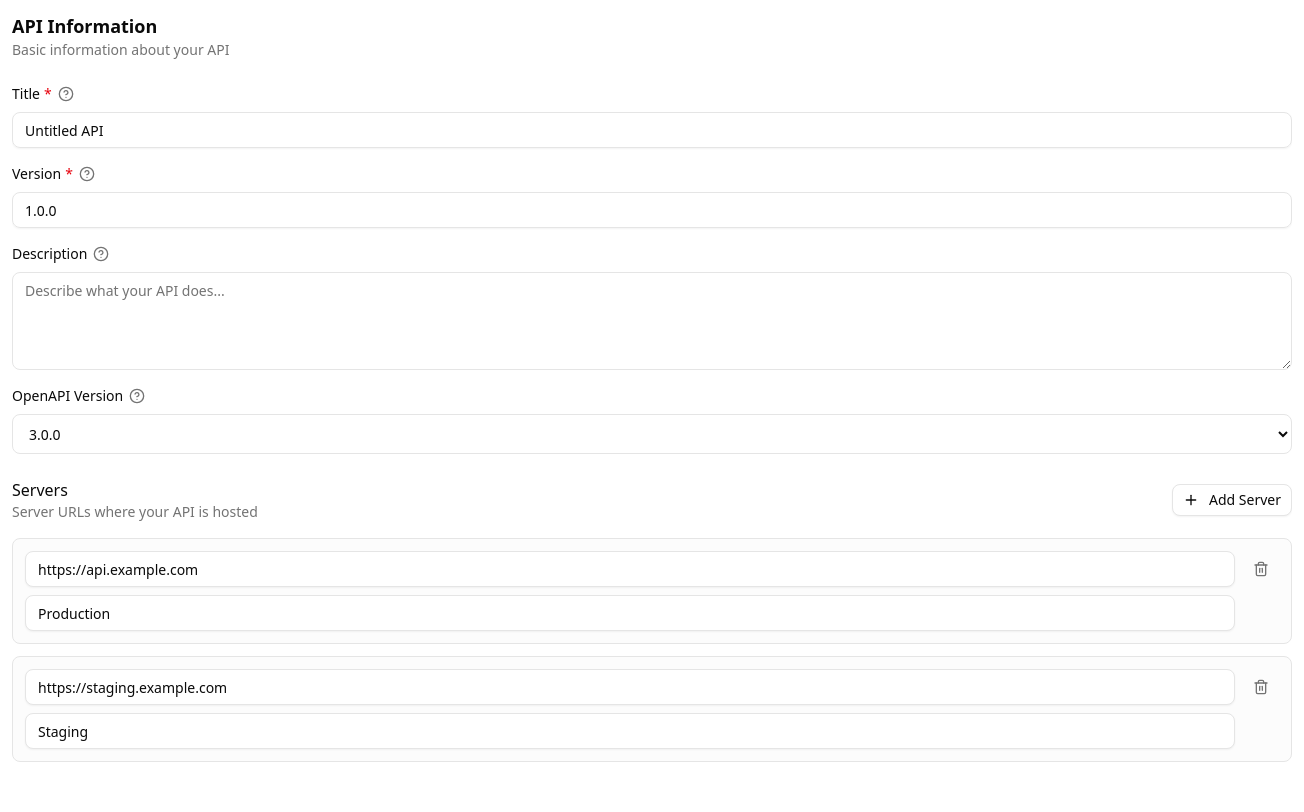
Test case: ApiInfoTab › Servers Section › should remove server when remove button clicked
The width and height of the screenshot is (1304, 812).
Click the 1st button named "remove server" at (1261, 569), box [1243, 551, 1279, 587]
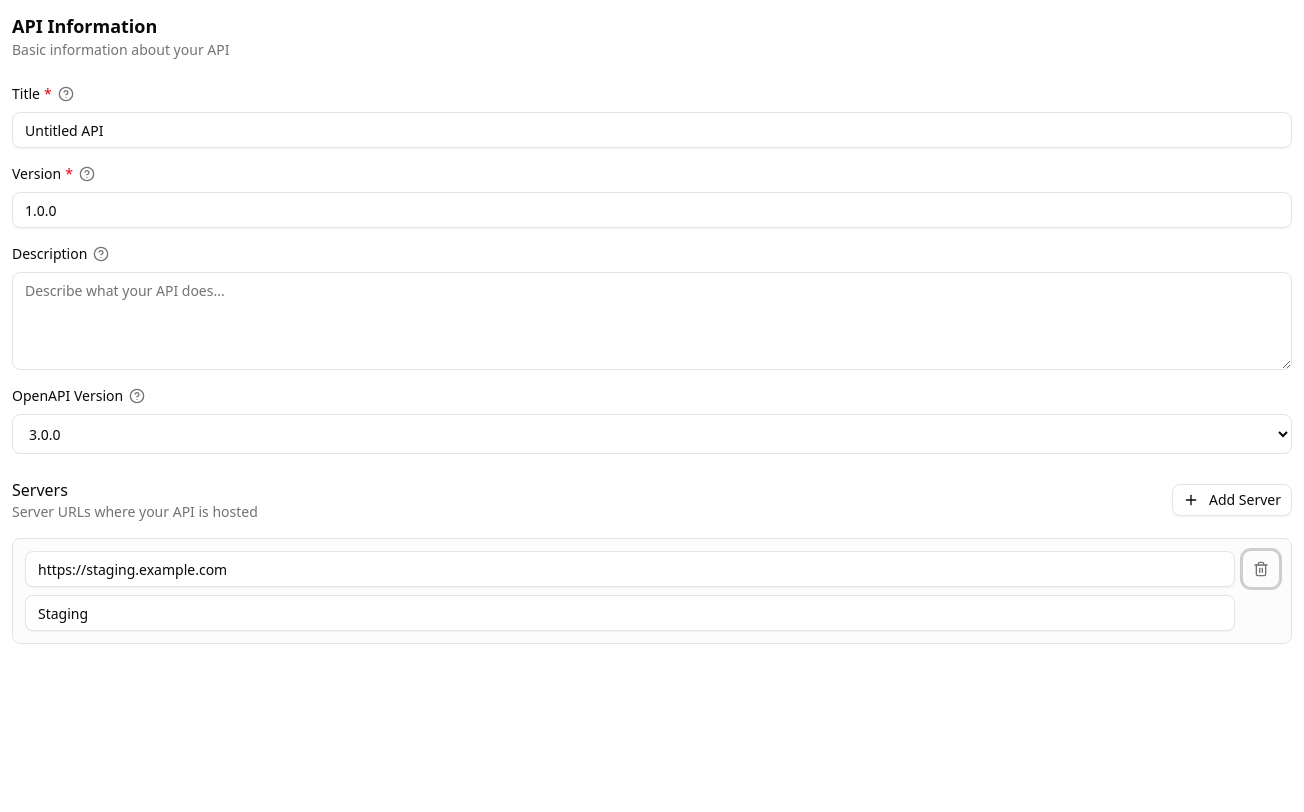
Expected: the field showing "https://api.example.com" is not shown
Expected: the field showing "https://staging.example.com" is shown, [25, 551, 1235, 587]
